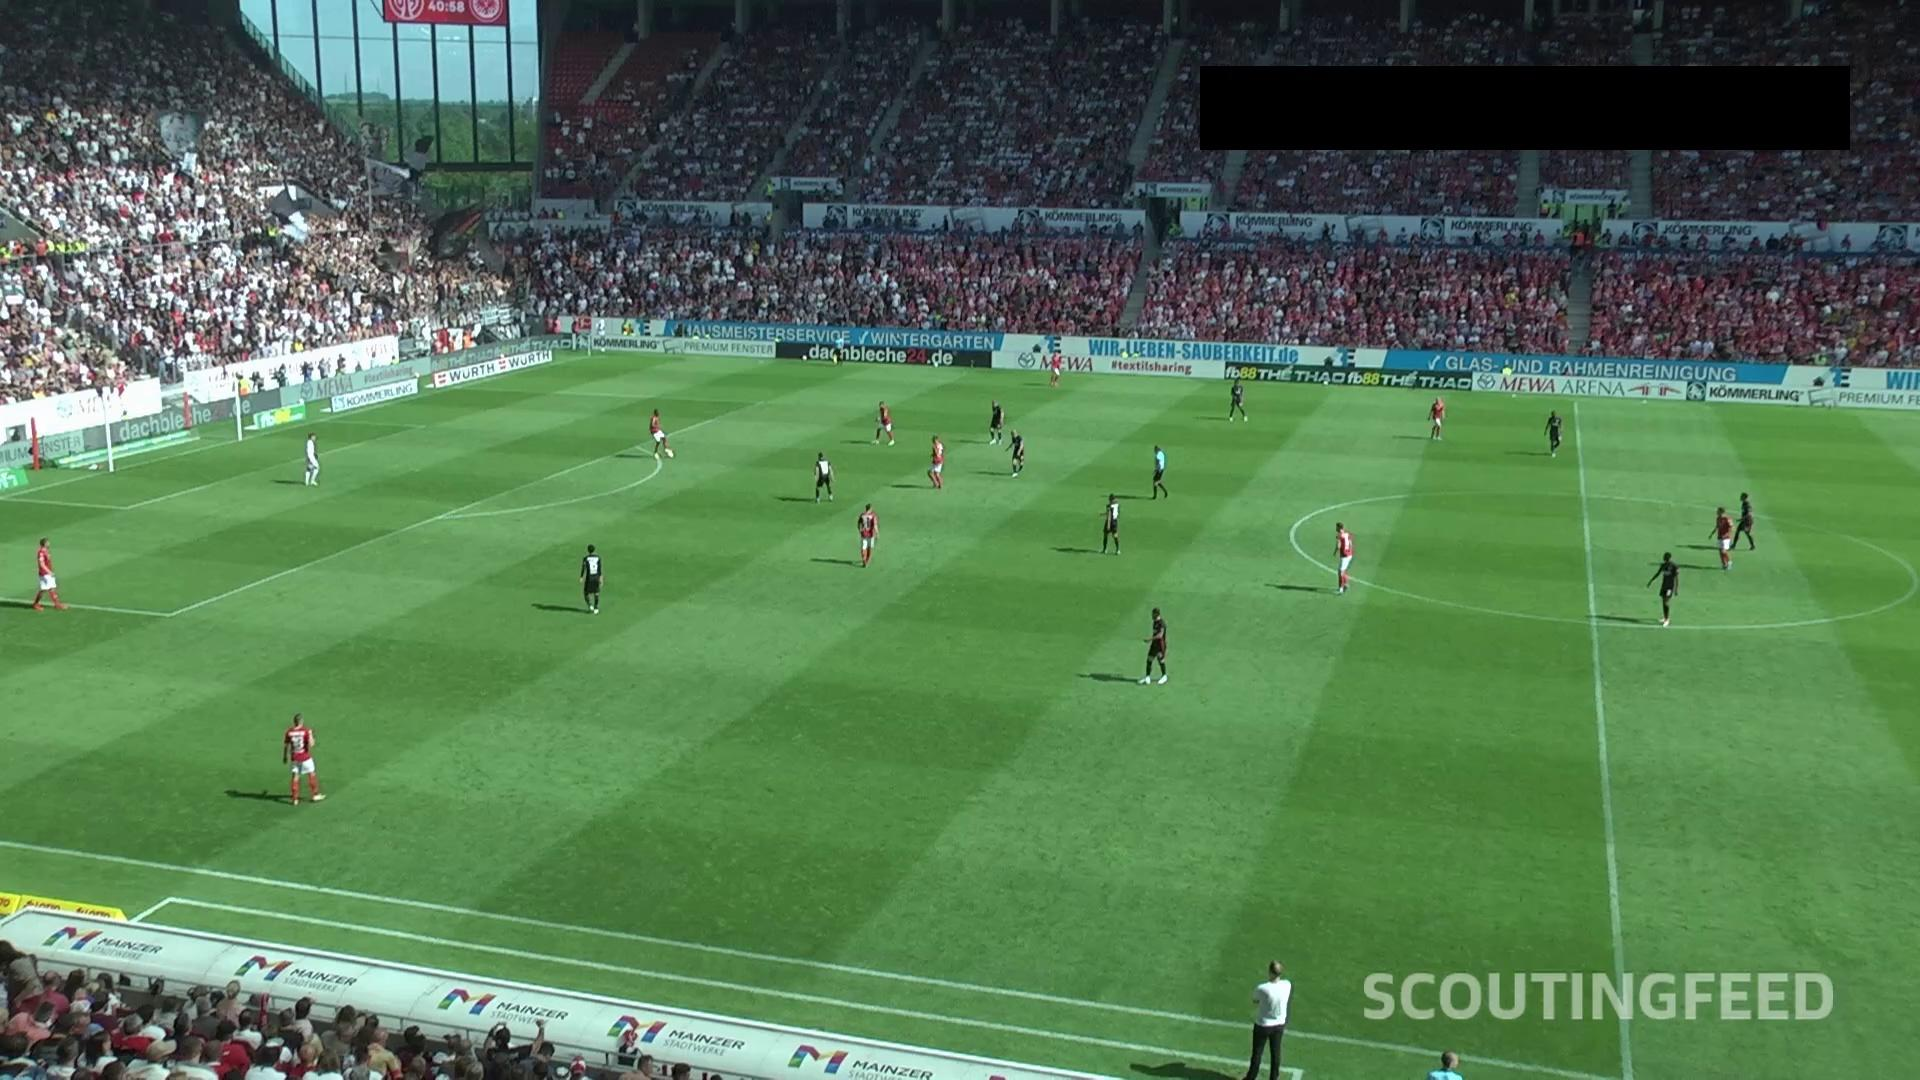Location-of-ball: (662, 442, 687, 465)
